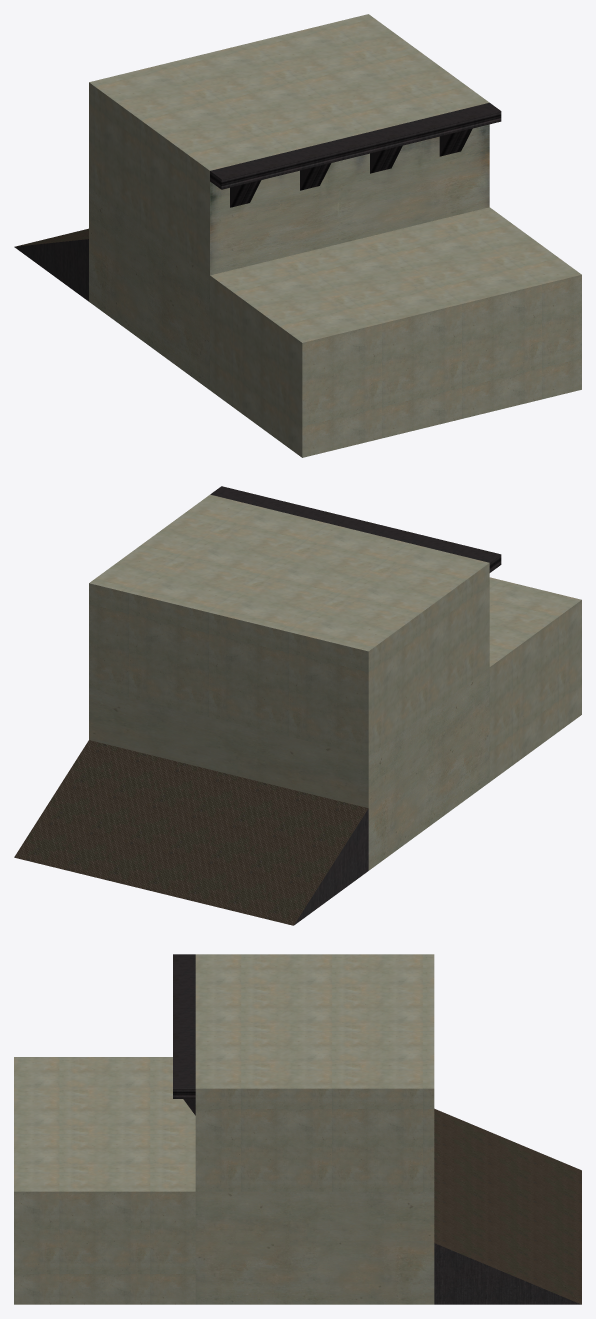
The model's file is newmidbase.fbx.
3 renders of one model, top to bottom at view 1: azimuth 30°, elevation 25°; view 2: azimuth 150°, elevation 25°; view 3: azimuth 270°, elevation 25°, orthographic.
Visible parts, largest first — view 1: Object; view 2: Object; view 3: Object.
Part boxes in pixels (x1,y1,x2,y2): Object: (14, 14, 581, 457); Object: (14, 486, 581, 925); Object: (14, 954, 581, 1304).
Size of the model in its own units: 5600 by 4200 by 10000.
